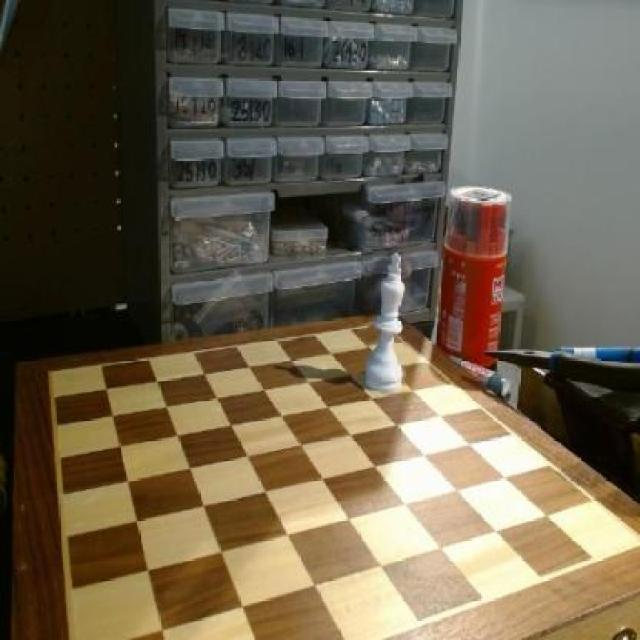white-bishop: (368, 251, 410, 396)
